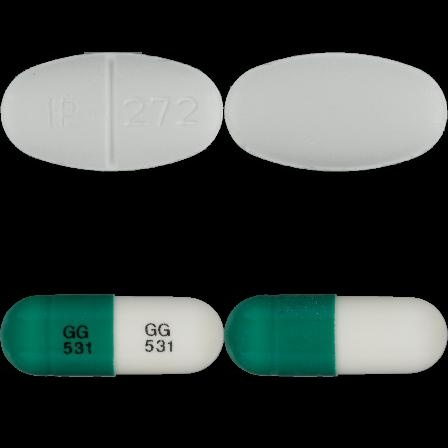76237-248: (0, 0, 224, 224)
